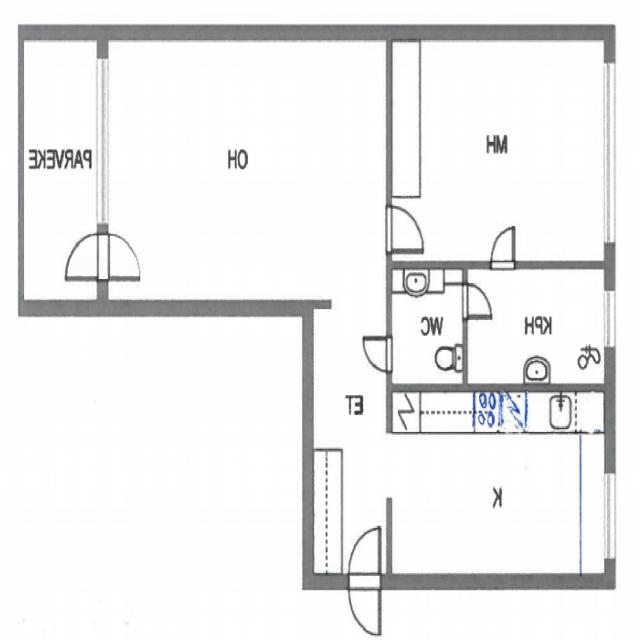door: (349, 528, 380, 590), (349, 573, 380, 635), (97, 234, 139, 278), (66, 234, 108, 278), (386, 207, 422, 250), (492, 225, 516, 268), (462, 284, 491, 318), (364, 338, 392, 372)
